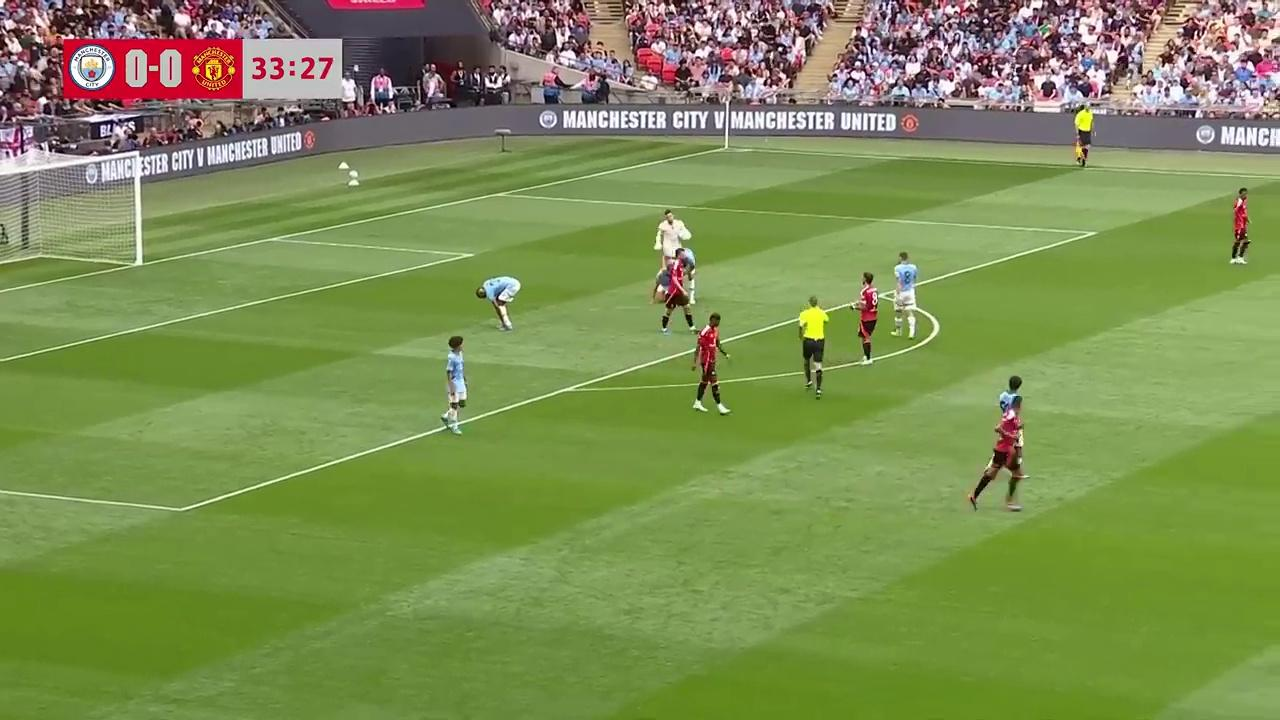player: (967, 403, 1025, 512), (690, 312, 730, 415), (649, 248, 695, 332), (476, 272, 520, 332), (440, 336, 467, 433), (889, 252, 919, 336), (852, 272, 879, 364), (653, 210, 687, 263), (1229, 187, 1251, 266)
referee: (797, 296, 828, 398), (1073, 103, 1093, 168)
